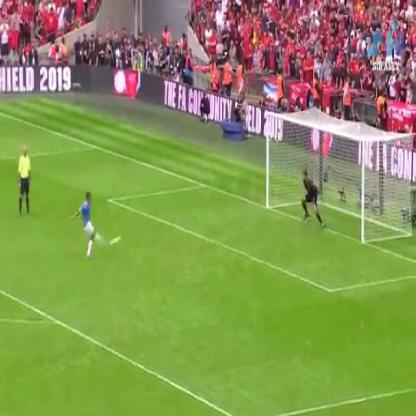penalty kick: (63, 99, 390, 288)
